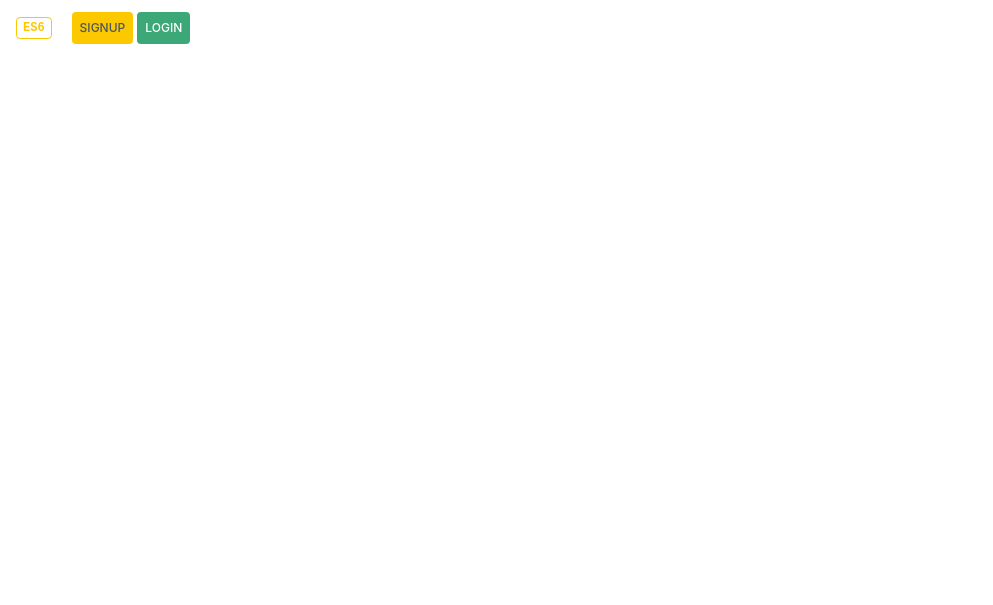
Test: AppHeader/Actions Component › correct show popup › login popup
What coordinates should you click on to do the following:
click the button "LOGIN"
I would click on:
 (164, 28)
Its box is [137,12,190,44].
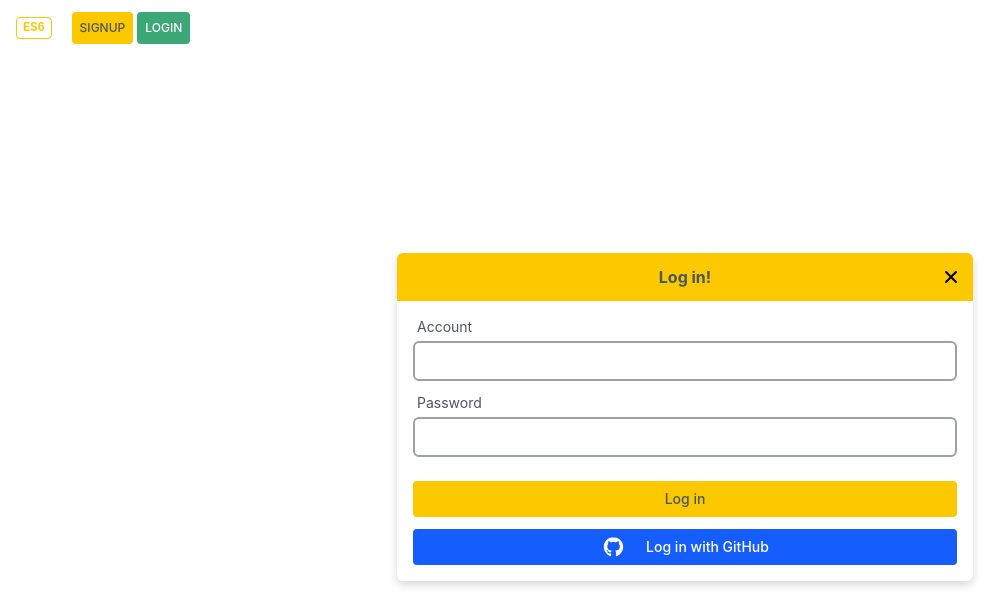
expect the heading "Log in!" is shown: met, box [659,267,711,287]
